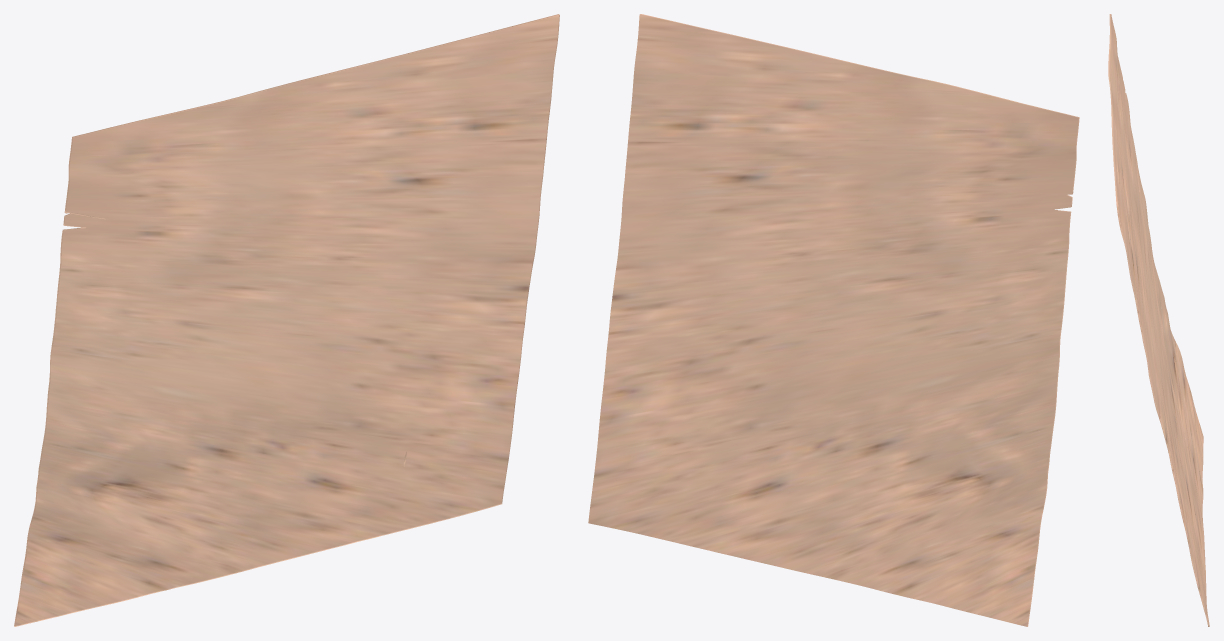
3 renders of one model, left to right at view 1: azimuth 30°, elevation 25°; view 2: azimuth 150°, elevation 25°; view 3: azimuth 270°, elevation 25°, orthographic. The views are drawn at different scales.
Bounding box in the file's own units: 26.9 × 27.83 × 6.07.
Materials: 1 (1 with a texture image).
